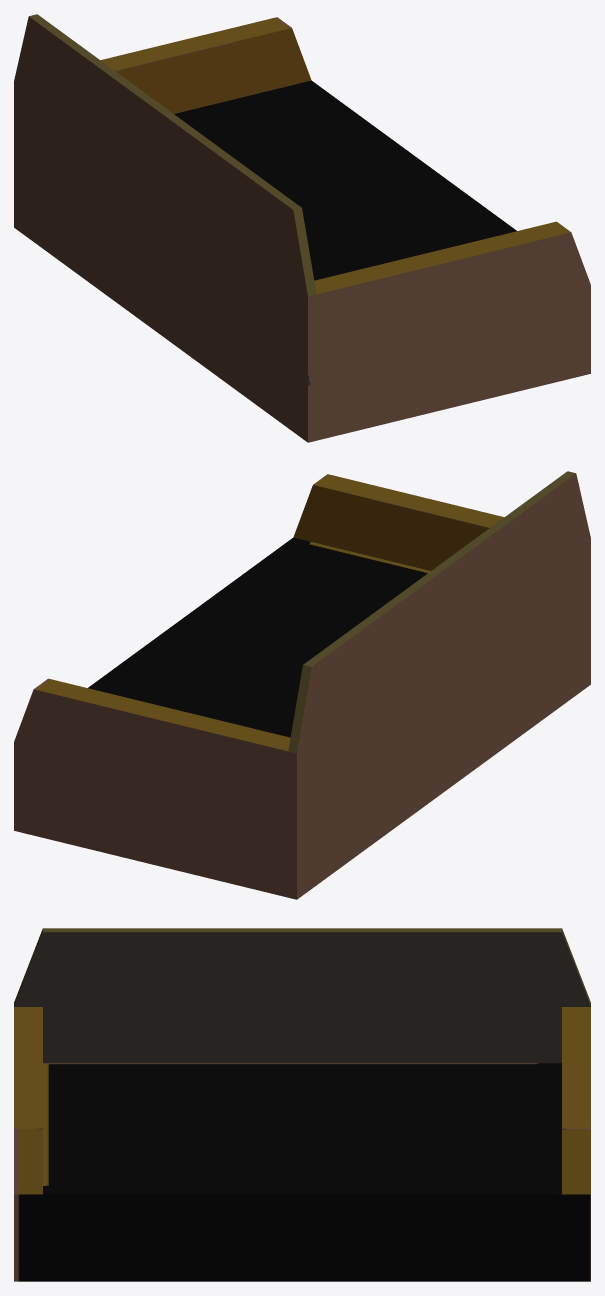
File: Couch.gltf
The picture shows the model from 3 angles, top to bottom: view 1: azimuth 30°, elevation 25°; view 2: azimuth 150°, elevation 25°; view 3: azimuth 270°, elevation 25°; orthographic projection.
Parts seen in each view (by area): view 1: Couch-col; view 2: Couch-col; view 3: Couch-col.
Boxes of the visible parts, x1,y1,x2,y2 form: Couch-col: (14, 14, 590, 442); Couch-col: (14, 471, 590, 899); Couch-col: (14, 928, 590, 1281).
Bounding box in the file's own units: 1 × 0.75 × 1.8.
Materials: 1 (1 with a texture image).
